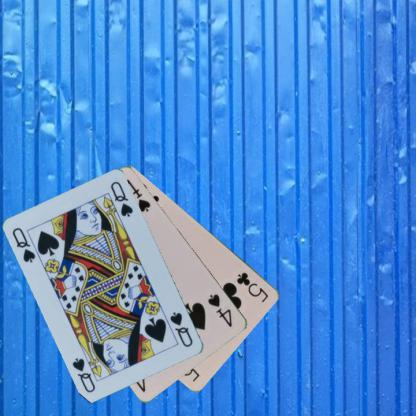4s: (205, 291, 234, 329)
5c: (234, 269, 270, 304)
Qs: (10, 225, 37, 264), (168, 309, 194, 349)
